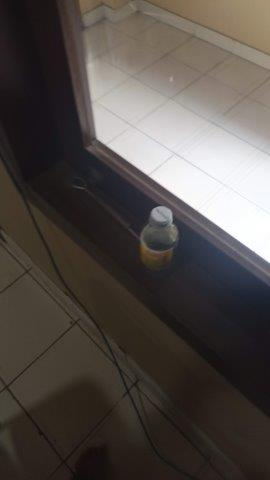botolkaca: (137, 207, 181, 277)
